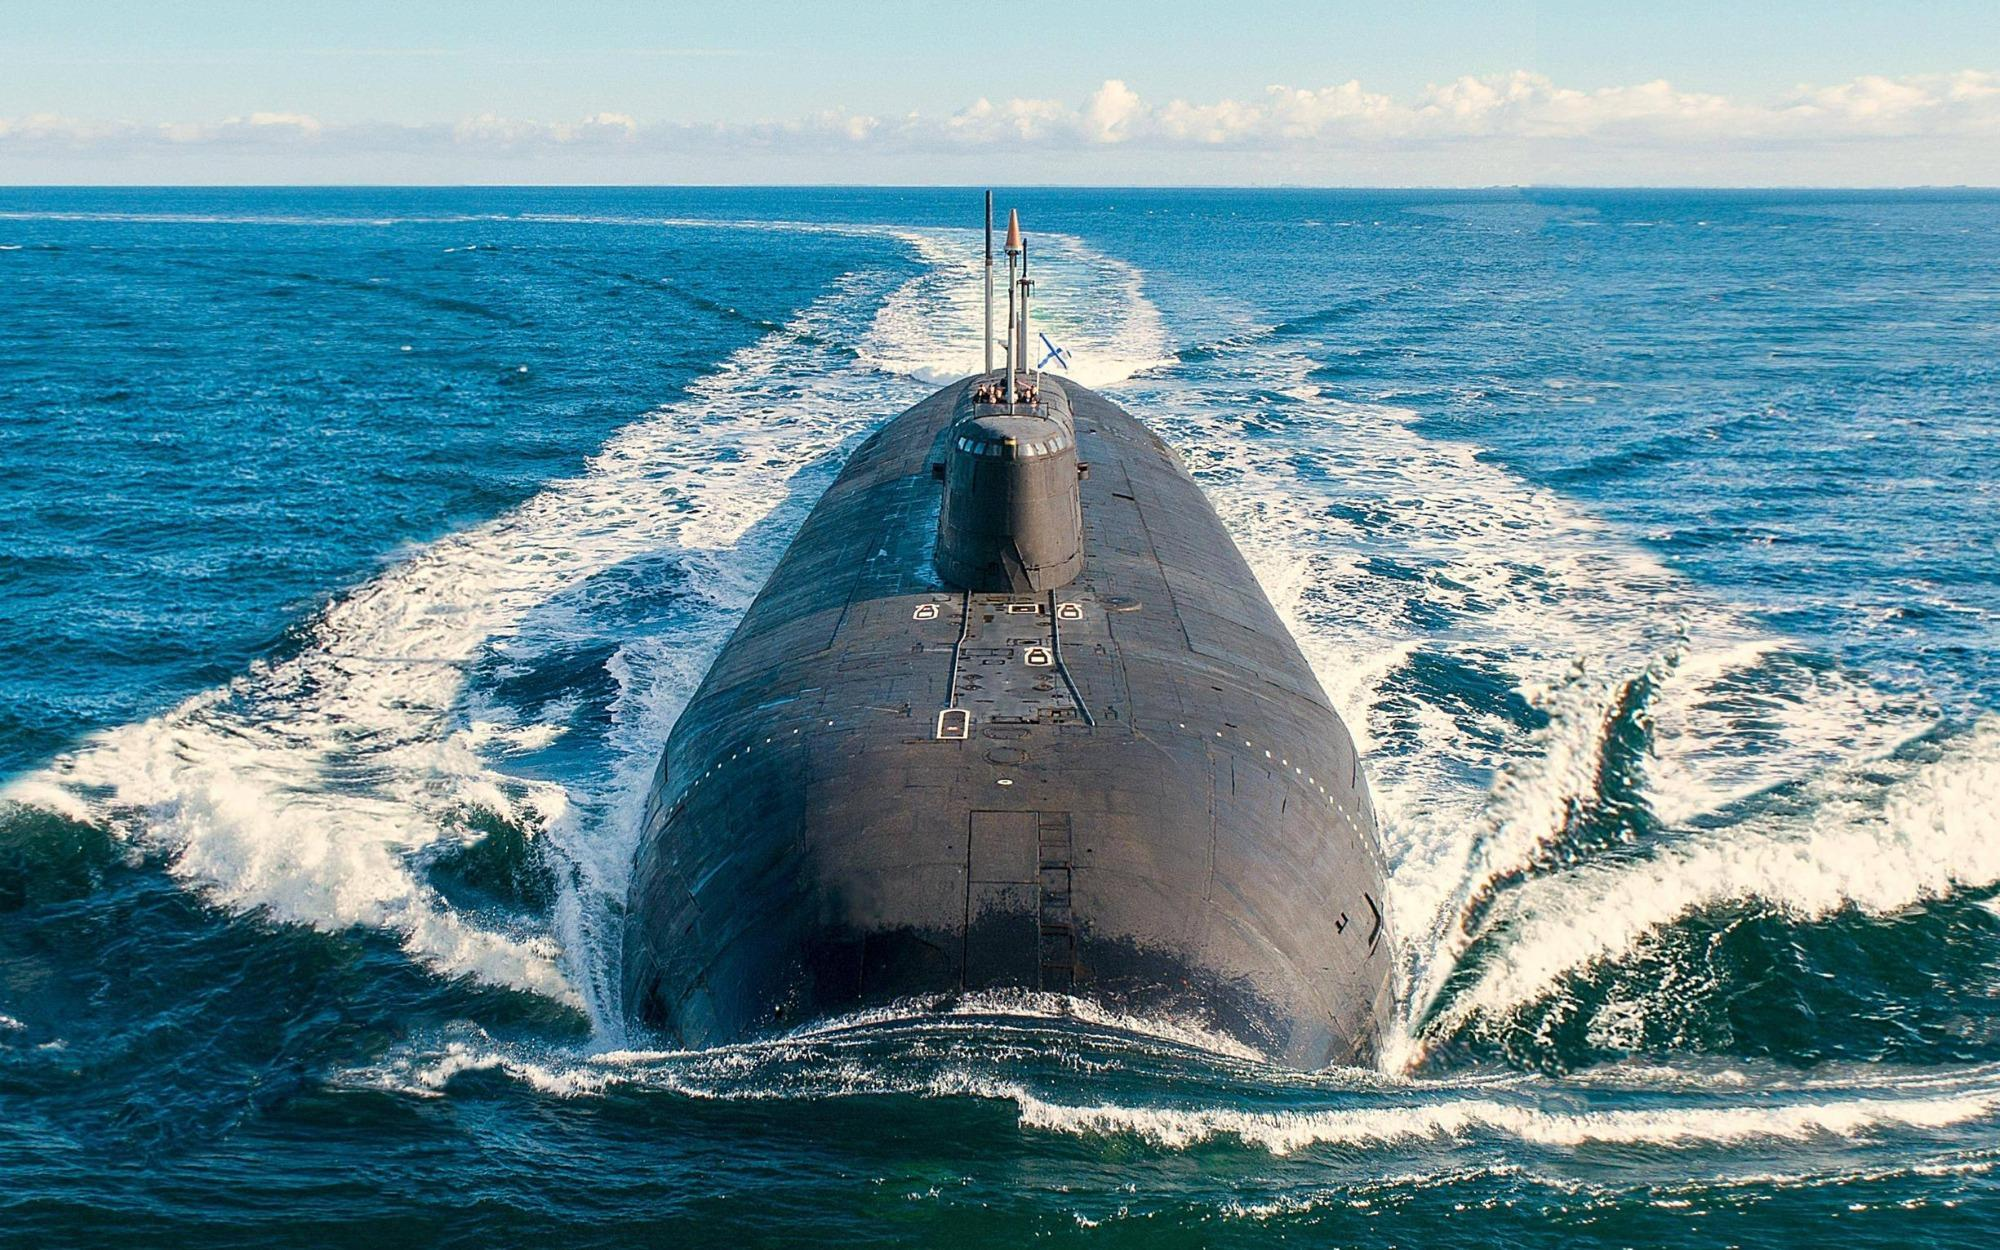Submarine: (406, 144, 1657, 1240)
